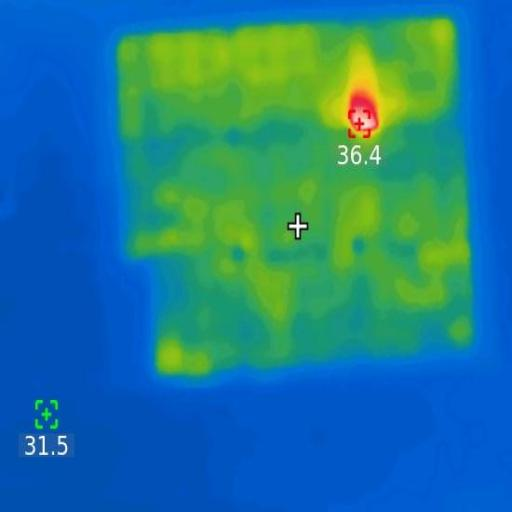hotspot: (337, 91, 390, 143)
